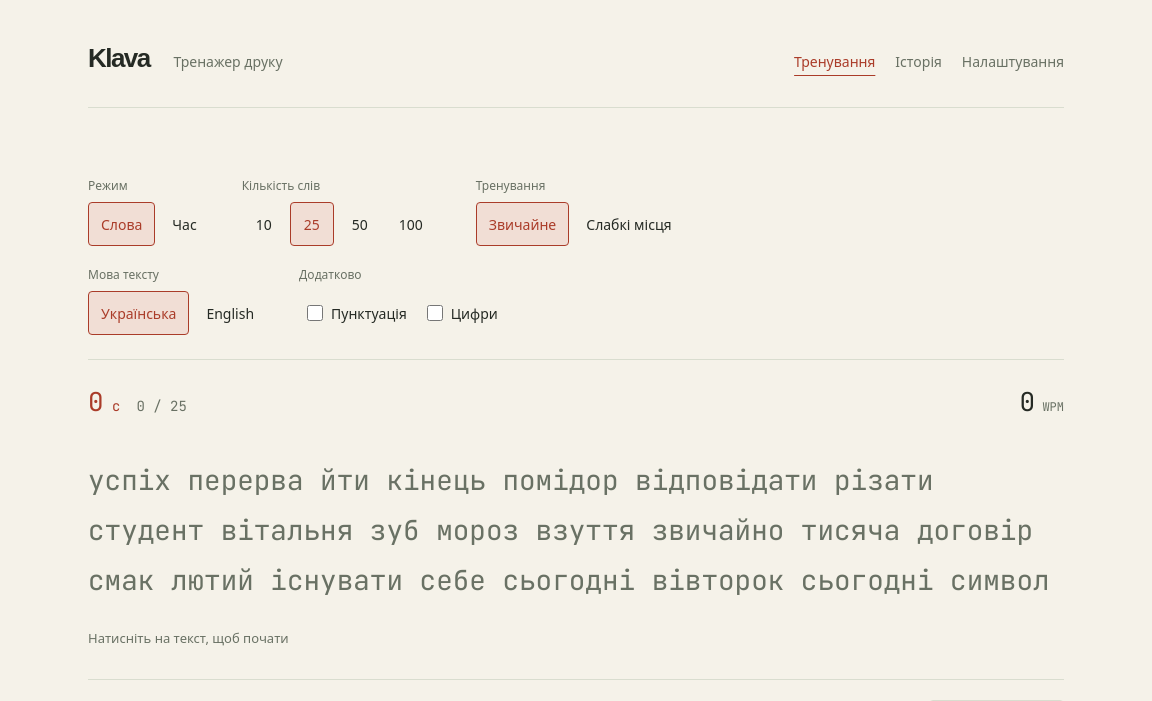
Test: previews learned targets and falls back independently for another language
The width and height of the screenshot is (1152, 701).
Click the radio button labelled "Слабкі місця" at (629, 224), box x1=586 y1=215 x2=672 y2=234
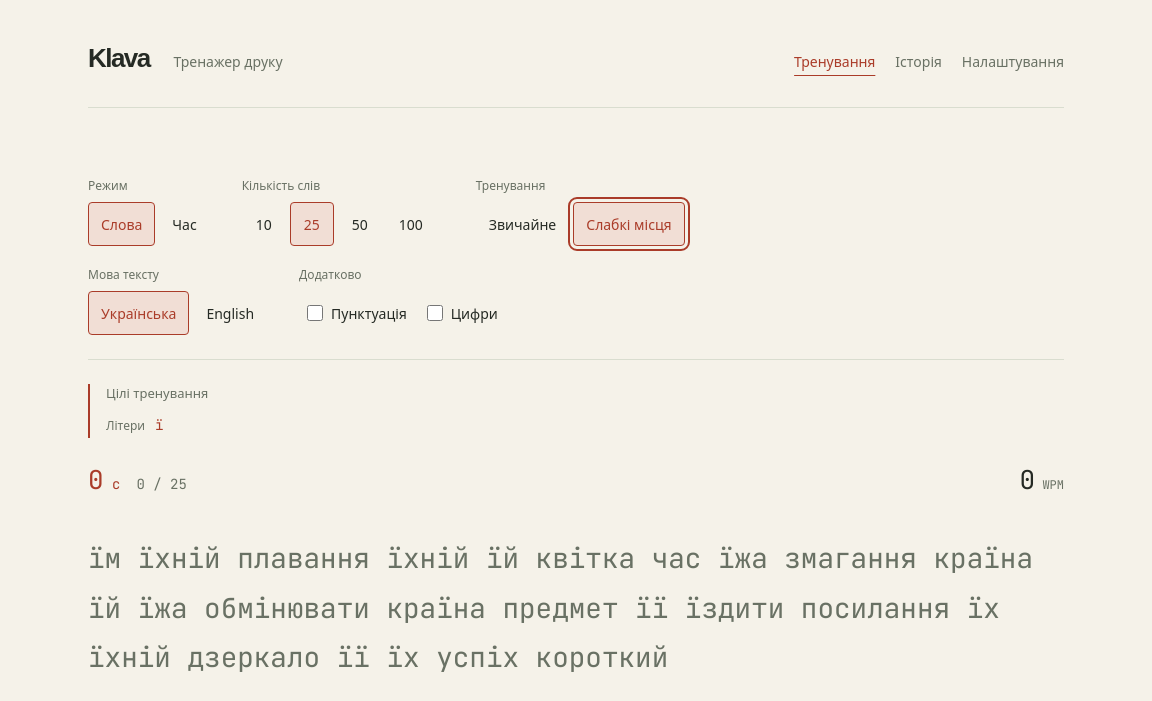
expect the text "ї" next to "Літери" is shown: met, box x1=155 y1=416 x2=164 y2=434
Click the radio button labelled "English" at (230, 313), box x1=206 y1=304 x2=254 y2=323
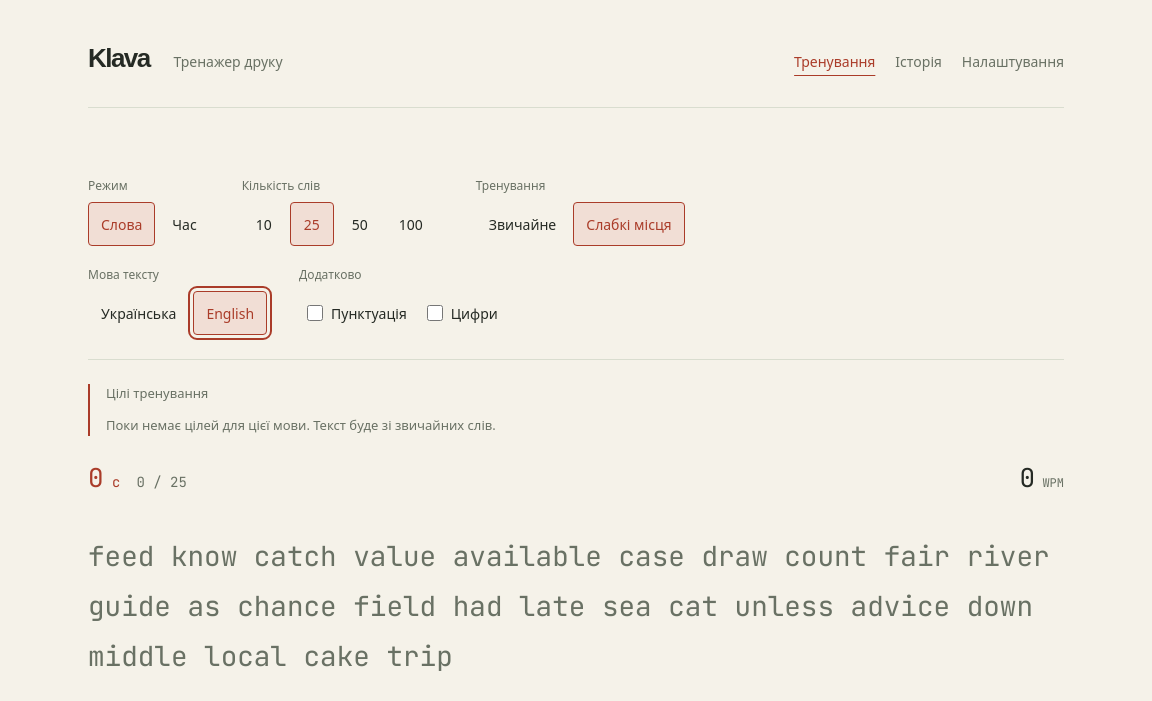
expect the radio button labelled "Слабкі місця" is checked: met, box x1=573 y1=202 x2=685 y2=246
expect the text "Поки немає цілей для цієї мови" is shown: met, box x1=106 y1=416 x2=496 y2=434
